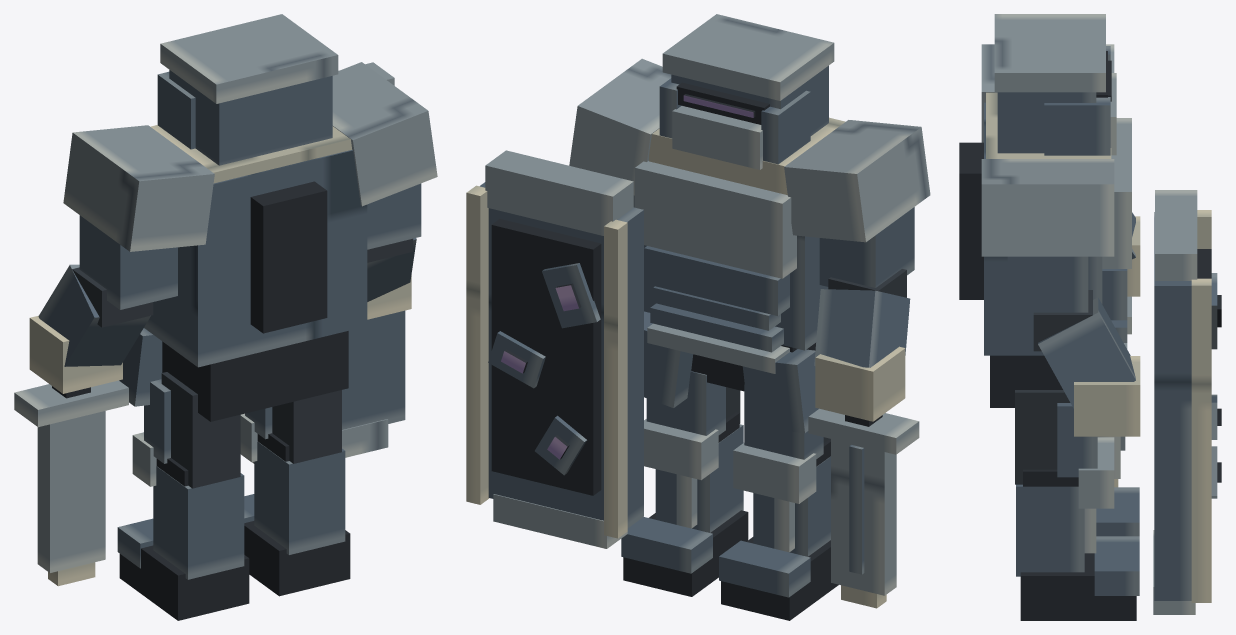
3 views of the same model, side by side, from view 1: azimuth 30°, elevation 25°; view 2: azimuth 150°, elevation 25°; view 3: azimuth 270°, elevation 25° (orthographic). The views are drawn at different scales.
Visible parts, largest first — view 1: body, arm_r, helmet, arm_l, sword, calf_r, calf_l, shield, thigh_r, ankle_r, ankle_l, thigh_l; view 2: shield, body, arm_r, helmet, sword, calf_l, calf_r, arm_l, ankle_l, ankle_r, thigh_l, thigh_r; view 3: arm_l, shield, helmet, body, calf_l, ankle_l, thigh_l, arm_r, ankle_r, sword.
Boxes of the visible parts, x1,y1,x2,y2 form: body: [119, 125, 367, 421]; arm_r: [29, 125, 214, 393]; helmet: [157, 14, 338, 165]; arm_l: [332, 62, 437, 319]; sword: [14, 380, 128, 586]; calf_r: [132, 432, 244, 579]; calf_l: [240, 413, 345, 554]; shield: [252, 62, 405, 463]; thigh_r: [144, 372, 240, 488]; ankle_r: [117, 518, 249, 620]; ankle_l: [244, 494, 350, 596]; thigh_l: [245, 390, 341, 463]; shield: [466, 150, 643, 548]; body: [635, 117, 845, 433]; arm_r: [784, 120, 930, 421]; helmet: [659, 14, 834, 169]; sword: [808, 408, 919, 608]; calf_l: [644, 412, 743, 532]; calf_r: [733, 438, 830, 556]; arm_l: [569, 58, 671, 207]; ankle_l: [621, 510, 748, 596]; ankle_r: [719, 537, 838, 620]; thigh_l: [646, 371, 740, 435]; thigh_r: [744, 385, 829, 459]; arm_l: [981, 159, 1140, 436]; shield: [1153, 190, 1217, 614]; helmet: [994, 14, 1116, 155]; body: [959, 92, 1131, 407]; calf_l: [1016, 437, 1114, 576]; ankle_l: [1020, 536, 1139, 620]; thigh_l: [1015, 390, 1097, 484]; arm_r: [981, 44, 1140, 296]; ankle_r: [1096, 487, 1139, 536]; sword: [1114, 296, 1131, 487].
Size of the model in its own units: 1.96 by 2.5 by 1.11.
Materials: 1 (1 with a texture image).
